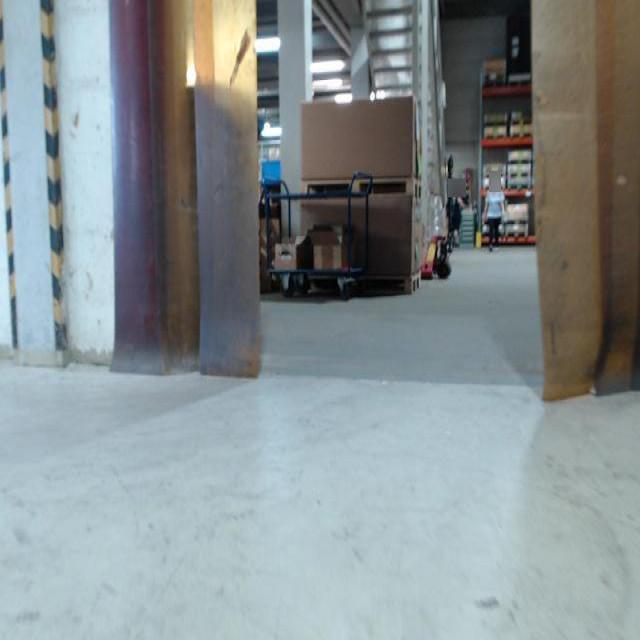pallet: (298, 175, 425, 202), (300, 269, 427, 295), (507, 182, 531, 191), (505, 217, 529, 226), (508, 170, 531, 179), (509, 132, 534, 140), (505, 230, 529, 238), (507, 158, 532, 165), (483, 172, 507, 179), (483, 81, 507, 87), (483, 134, 507, 140), (510, 119, 533, 125), (507, 81, 532, 86)
pallet_truck: (420, 148, 462, 283)
